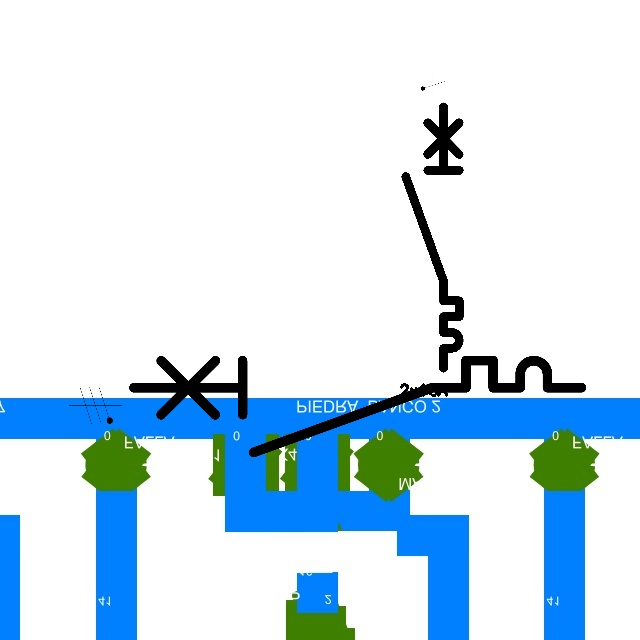interruptor_termomagnetico: (122, 349, 593, 464), (399, 100, 466, 375)
